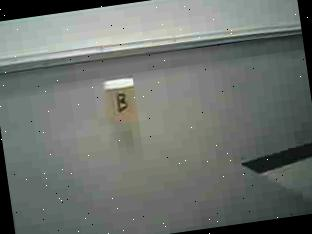Bottle B: (94, 68, 152, 134)
